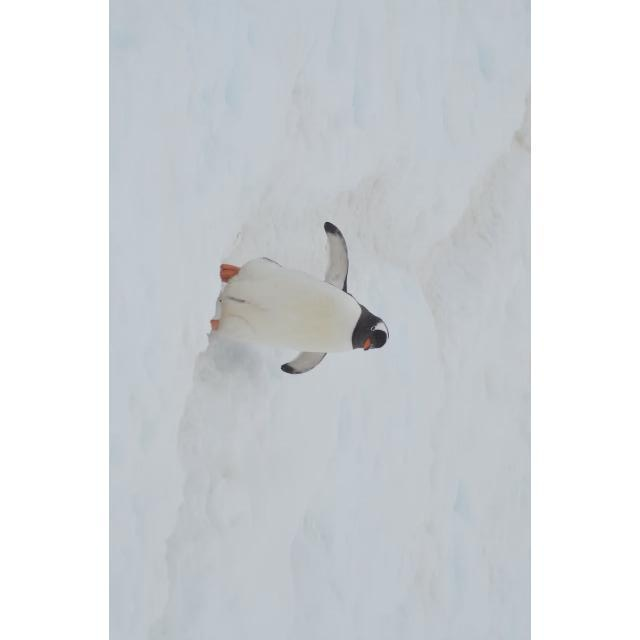penguin: (209, 221, 391, 377)
